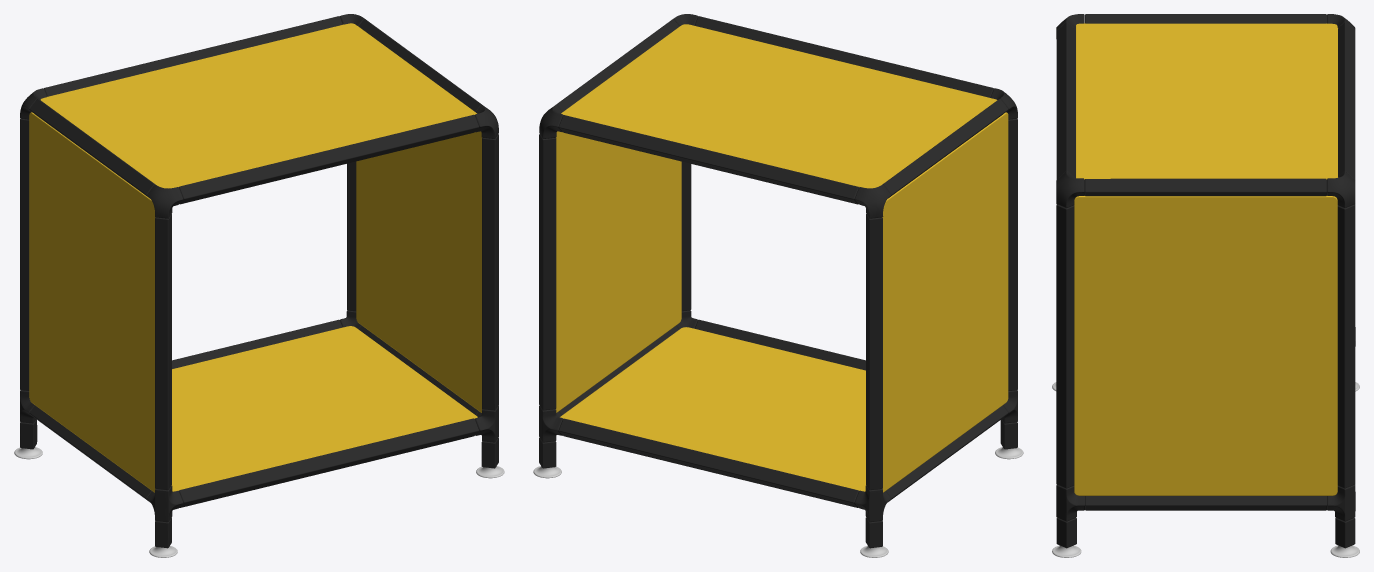
3 renders of one model, left to right at view 1: azimuth 30°, elevation 25°; view 2: azimuth 150°, elevation 25°; view 3: azimuth 270°, elevation 25°, orthographic. The views are drawn at different scales.
Visible parts, largest first — view 1: 479x329x420; view 2: 479x329x420; view 3: 479x329x420.
Part boxes in pixels (x1,y1,x2,y2): 479x329x420: [14, 14, 504, 557]; 479x329x420: [533, 14, 1023, 557]; 479x329x420: [1052, 14, 1359, 557].
Size of the model in its own units: 0.5689 by 0.5592 by 0.4183.
